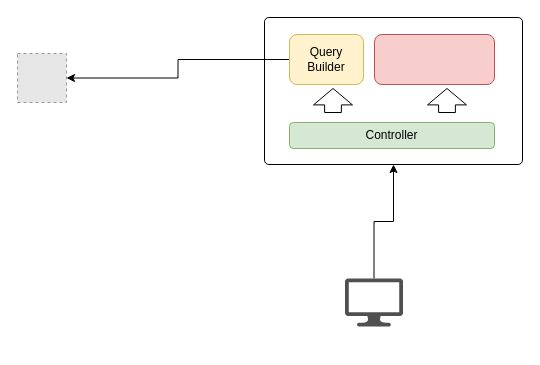
The diagram is 540 pixels wide and 365 high, and some of its shapes have lost their labels. Grey dashed boxes stand in for pictures. Here are the shapes that lost their labels. From the top down, the centre of each, then its label:
At point 434,59: "RulesEngine".
At point 373,302: "Front-End".
